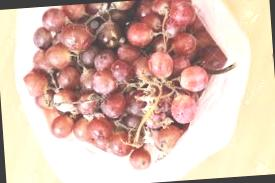Grape Rotten: (17, 0, 243, 178)
